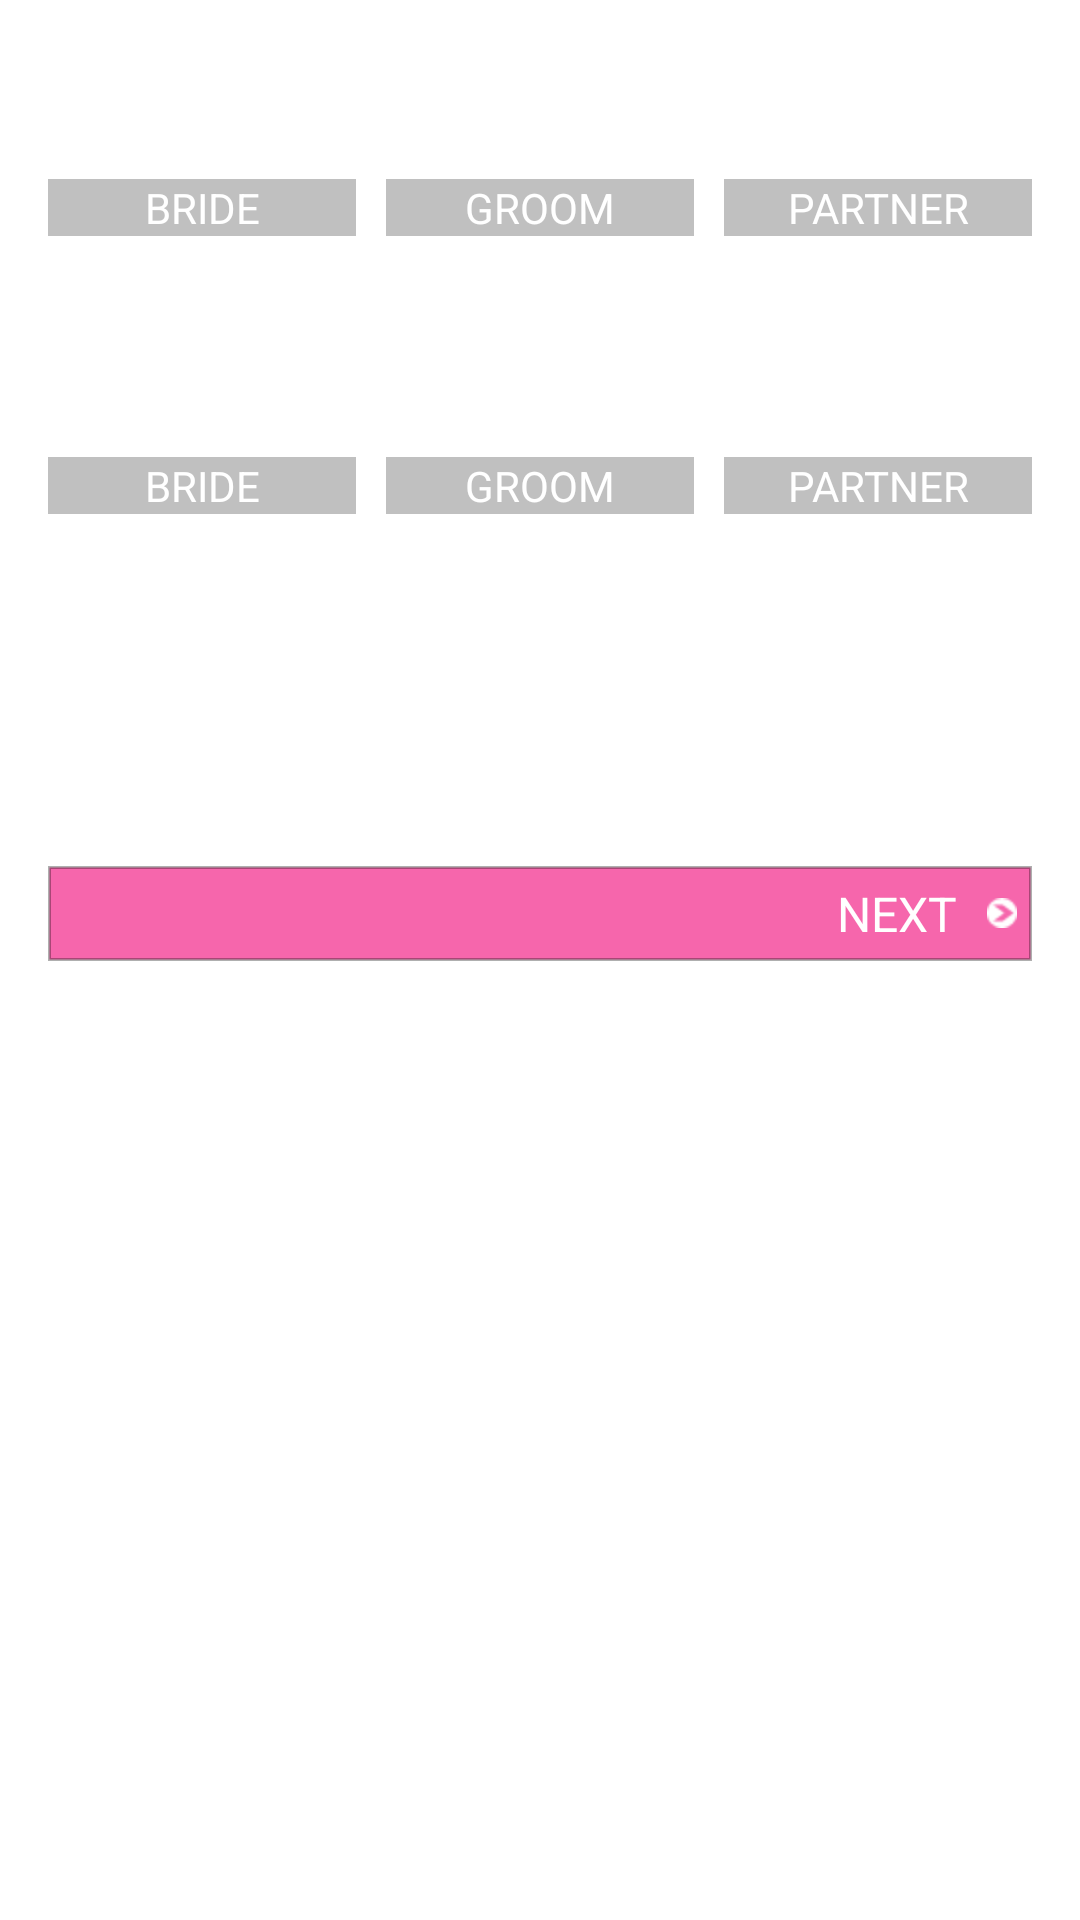

Icon click points for this 1080w x 1920h phone screenshot, format (x=x, y=y):
rarr: (x=1002, y=913)
